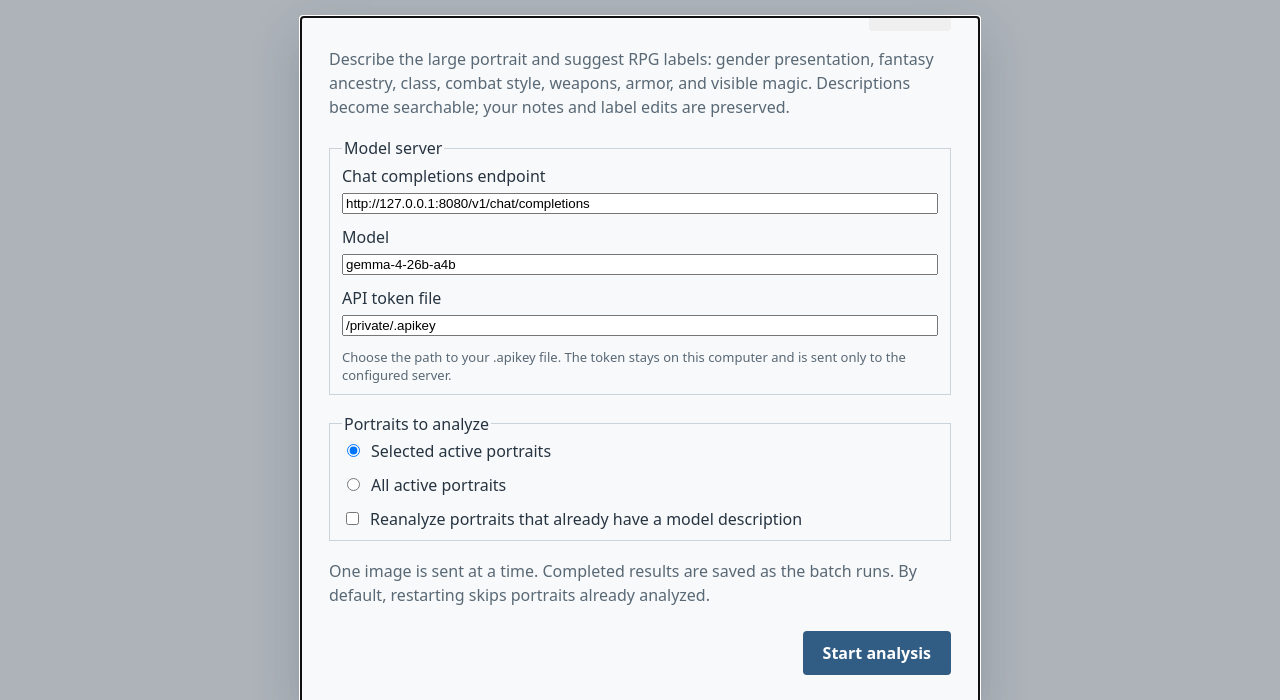
Test: starts an explicit selected-only batch and refreshes the catalog after completion
The image size is (1280, 700).
(page scrolled)
Step 1. Click the button "Start analysis" → {"x": 877, "y": 653}, box [803,631,951,675]
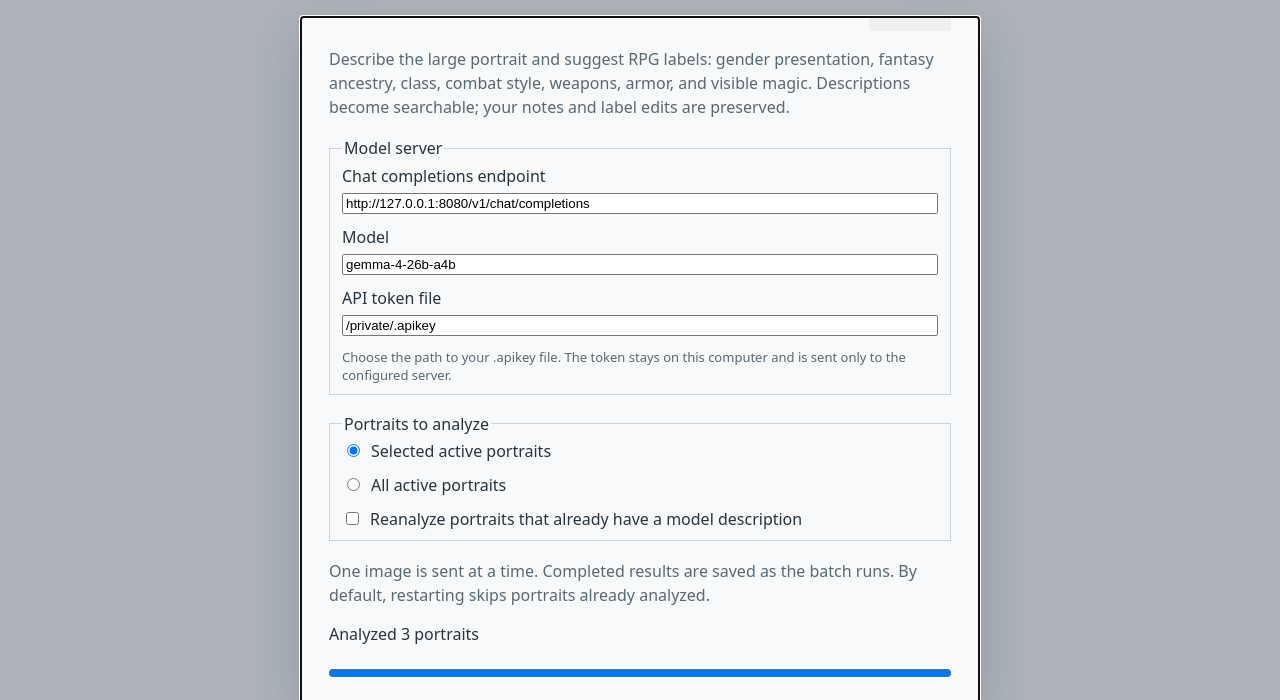
Check: the text "Analyzed 3 portraits" is shown, box [329,623,479,645]
